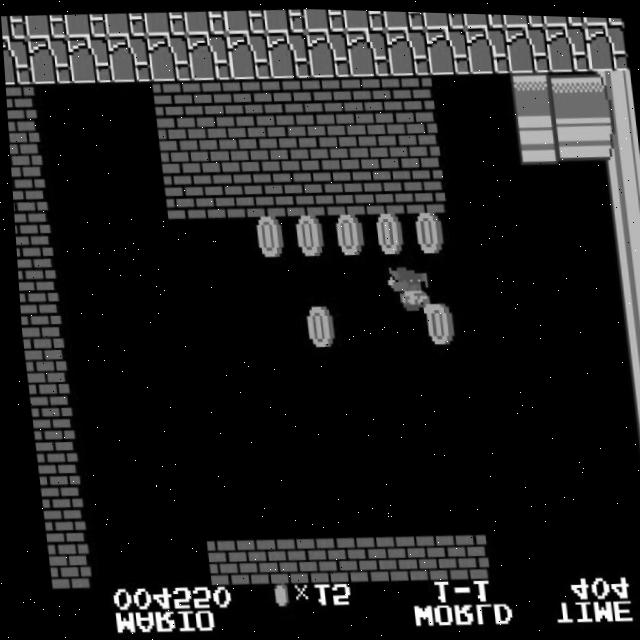1- brick_block: (198, 535, 244, 584), (155, 124, 201, 173), (150, 78, 196, 127), (238, 534, 284, 583), (195, 123, 241, 172), (190, 77, 236, 126), (278, 533, 324, 582), (235, 122, 281, 171), (230, 76, 276, 125), (318, 532, 364, 581), (275, 121, 321, 170), (270, 75, 316, 124), (310, 74, 356, 123), (160, 171, 206, 219), (200, 169, 246, 217), (240, 168, 286, 216), (359, 165, 405, 213), (399, 164, 445, 212), (25, 404, 70, 453), (358, 531, 403, 580), (315, 119, 360, 168), (398, 530, 443, 579), (355, 118, 400, 167), (350, 73, 395, 122), (438, 529, 483, 578), (395, 117, 440, 166), (390, 71, 435, 120), (30, 450, 75, 498), (280, 167, 325, 215), (320, 166, 365, 214), (40, 541, 84, 590), (21, 358, 65, 407), (35, 496, 79, 544), (16, 312, 60, 360), (14, 267, 56, 316), (12, 221, 50, 270), (9, 176, 46, 224), (7, 130, 41, 178), (4, 84, 36, 133)
11- little_mario: (380, 265, 428, 316)
14- pipe: (588, 66, 634, 115), (593, 112, 639, 160), (554, 112, 599, 161), (549, 67, 594, 116), (598, 158, 640, 206), (603, 203, 640, 252), (607, 249, 640, 298), (612, 295, 640, 343), (617, 340, 640, 389), (621, 386, 640, 435), (627, 432, 640, 480), (631, 478, 640, 526), (636, 523, 640, 572)
15- pipe_head: (514, 113, 559, 162), (509, 68, 554, 117)
17- undestructible_block: (26, 36, 72, 85), (66, 35, 112, 84), (106, 34, 152, 83), (146, 32, 192, 81), (225, 30, 271, 79), (265, 29, 311, 78), (305, 28, 351, 77), (544, 21, 590, 70), (583, 20, 629, 69), (186, 31, 231, 80), (345, 27, 390, 76), (385, 25, 430, 74), (425, 24, 470, 73), (465, 23, 510, 72), (505, 22, 550, 71), (2, 38, 32, 87), (103, 11, 147, 37), (143, 10, 187, 36), (183, 9, 227, 35), (24, 14, 67, 40), (64, 12, 107, 38), (223, 8, 266, 34), (263, 7, 306, 33), (303, 7, 346, 31), (343, 8, 386, 30), (382, 9, 425, 29), (422, 10, 465, 28), (462, 11, 505, 27), (1, 16, 27, 41), (502, 12, 545, 26), (542, 13, 585, 25), (582, 14, 624, 23)
2- coin: (294, 303, 340, 352), (284, 212, 330, 261), (324, 211, 370, 260), (364, 210, 410, 259), (245, 213, 290, 262), (414, 300, 459, 349), (404, 209, 449, 258)
